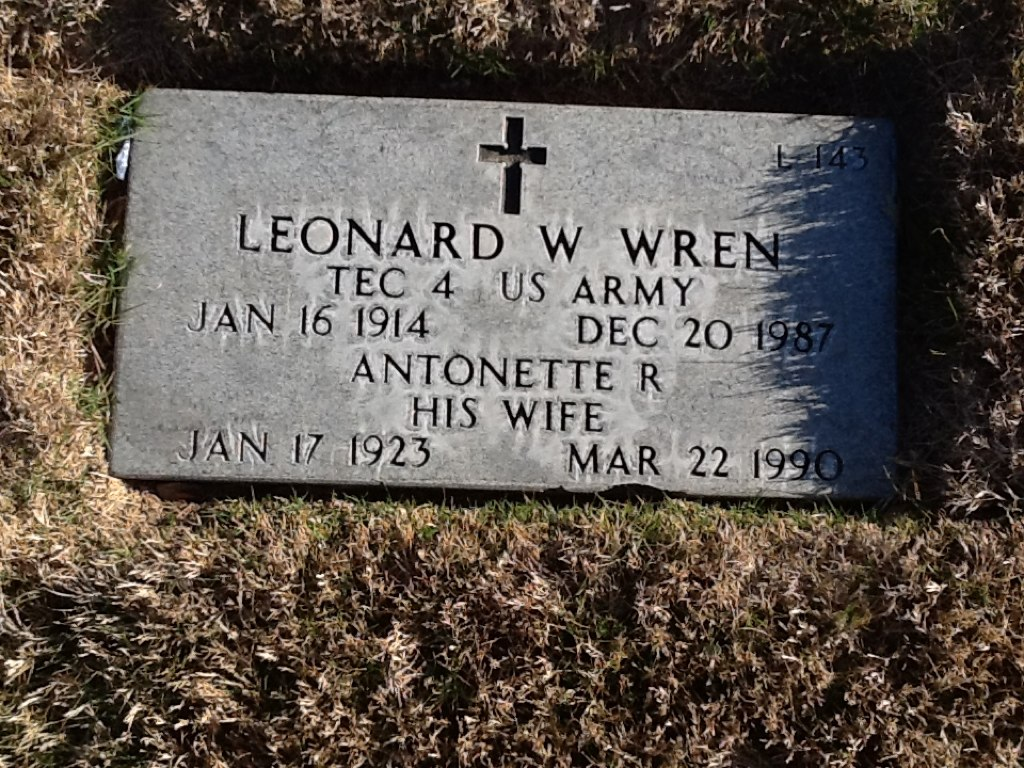flat: (106, 83, 908, 518)
